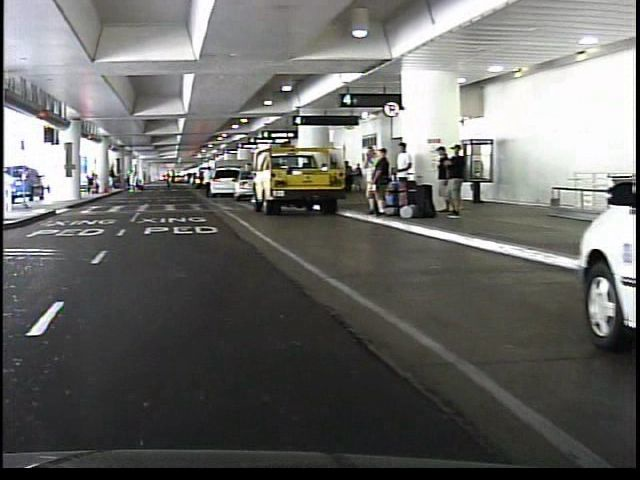person: (356, 142, 375, 214), (443, 144, 461, 217), (120, 163, 135, 197), (197, 165, 208, 198)
